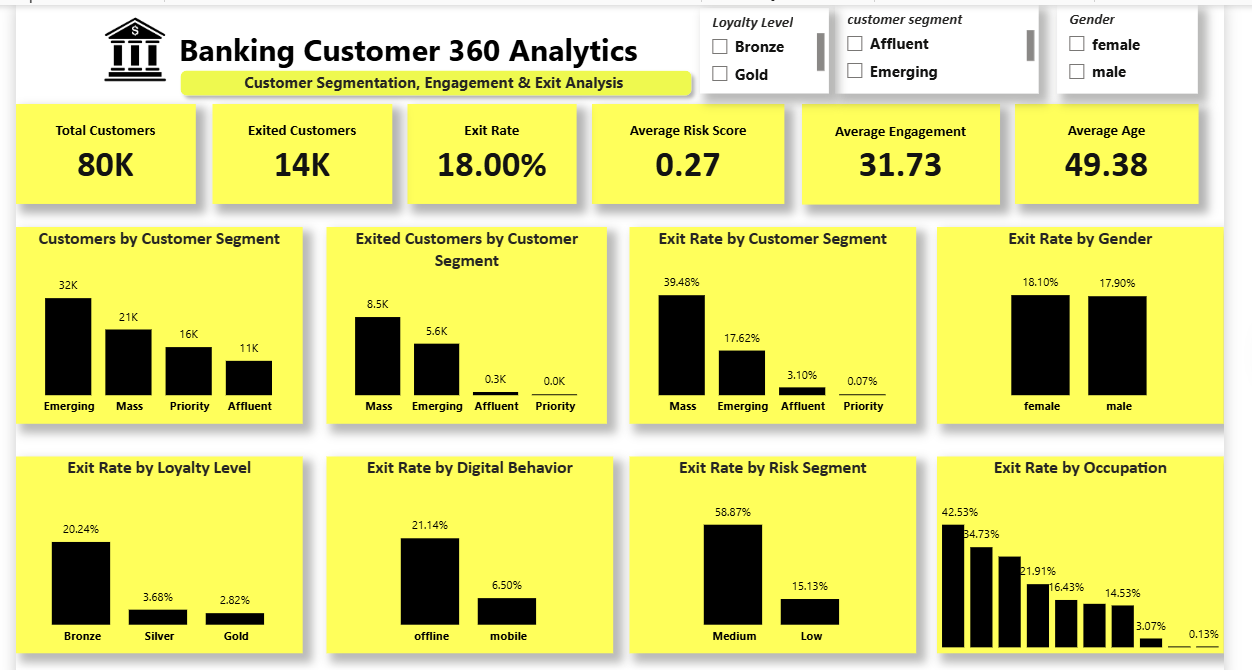

This screenshot's page, from the dashboard's own definition file:
{"tool":"powerbi","page":{"name":"Dashboard page 1","canvas":[1280,720],"ordinal":0},"visuals":[{"type":"cardVisual","fields":{"Data":["bank_churn_cleaned.Total Customers"]},"box":[0,105,190.9,105.8],"z":0},{"type":"cardVisual","fields":{"Data":["bank_churn_cleaned.Average Risk Score"]},"box":[610.8,105,204.1,105.8],"z":1000},{"type":"cardVisual","fields":{"Data":["bank_churn_cleaned.Exit Rate"]},"box":[415.1,105,179.5,105.8],"z":2000},{"type":"cardVisual","fields":{"Data":["bank_churn_cleaned.Exited Customers"]},"box":[208.4,105,190.9,105.8],"z":3000},{"type":"cardVisual","fields":{"Data":["bank_churn_cleaned.Average Engagement"]},"box":[833.5,105,210,106.6],"z":4000},{"type":"cardVisual","fields":{"Data":["bank_churn_cleaned.Average Age"]},"box":[1059.3,105,194.6,105.8],"z":5000},{"type":"clusteredColumnChart","title":"Customers by Customer Segment","fields":{"Category":["bank_churn_cleaned.customer_segment"],"Y":["CountNonNull(bank_churn_cleaned.id)"]},"box":[0,235.4,303.8,208.4],"z":6000},{"type":"clusteredColumnChart","title":"Exited Customers by Customer Segment","fields":{"Category":["bank_churn_cleaned.customer_segment"],"Y":["bank_churn_cleaned.Exited Customers"]},"box":[329.3,235.4,297.4,208.4],"z":7000},{"type":"clusteredColumnChart","title":"Exit Rate by Customer Segment","fields":{"Category":["bank_churn_cleaned.customer_segment"],"Y":["bank_churn_cleaned.Exit Rate"]},"box":[650.6,235.4,303.8,208.4],"z":8000},{"type":"clusteredColumnChart","title":"Exit Rate by Gender","fields":{"Y":["bank_churn_cleaned.Exit Rate"],"Category":["bank_churn_cleaned.gender"]},"box":[976.6,235.4,303.8,208.4],"z":9000},{"type":"clusteredColumnChart","title":"Exit Rate by Loyalty Level","fields":{"Y":["bank_churn_cleaned.Exit Rate"],"Category":["bank_churn_cleaned.loyalty_level"]},"box":[0,478.8,303.8,208.4],"z":10000},{"type":"clusteredColumnChart","title":"Exit Rate by Digital Behavior","fields":{"Y":["bank_churn_cleaned.Exit Rate"],"Category":["bank_churn_cleaned.digital_behavior"]},"box":[329.3,478.8,303.8,208.4],"z":11000},{"type":"clusteredColumnChart","title":"Exit Rate by Risk Segment","fields":{"Y":["bank_churn_cleaned.Exit Rate"],"Category":["bank_churn_cleaned.risk_segment"]},"box":[650.6,478.8,303.8,208.4],"z":12000},{"type":"clusteredColumnChart","title":"Exit Rate by Occupation","fields":{"Y":["bank_churn_cleaned.Exit Rate"],"Category":["bank_churn_cleaned.occupation"]},"box":[976.6,478.8,303.8,208.4],"z":13000},{"type":"slicer","fields":{"Values":["bank_churn_cleaned.gender"]},"box":[1103.9,0,149.5,93.8],"z":14000},{"type":"textbox","box":[49.3,19.1,733.3,57.3],"z":15000},{"type":"shape","box":[165.4,60.4,559.9,44.5],"z":16000},{"type":"textbox","box":[237,65.2,777.8,35],"z":17000},{"type":"slicer","fields":{"Values":["bank_churn_cleaned.customer_segment"]},"box":[868.5,0,216.3,93.8],"z":18000},{"type":"image","box":[0,0,252.9,93.8],"z":19000},{"type":"slicer","fields":{"Values":["bank_churn_cleaned.loyalty_level"]},"box":[725.3,3.2,136.8,90.7],"z":20000}]}

Visuals, with their boxes on the page's 1280x720 design canvas (x1, y1, x2, y2). These are canvas units, not pixel positions in the 1252x670 screenshot, which may show the page scaled, cropped or inside an application window:
cardVisual - bank_churn_cleaned.Total Customers: select_region(0, 105, 191, 211)
cardVisual - bank_churn_cleaned.Average Risk Score: select_region(611, 105, 815, 211)
cardVisual - bank_churn_cleaned.Exit Rate: select_region(415, 105, 595, 211)
cardVisual - bank_churn_cleaned.Exited Customers: select_region(208, 105, 399, 211)
cardVisual - bank_churn_cleaned.Average Engagement: select_region(834, 105, 1044, 212)
cardVisual - bank_churn_cleaned.Average Age: select_region(1059, 105, 1254, 211)
"Customers by Customer Segment" clusteredColumnChart: select_region(0, 235, 304, 444)
"Exited Customers by Customer Segment" clusteredColumnChart: select_region(329, 235, 627, 444)
"Exit Rate by Customer Segment" clusteredColumnChart: select_region(651, 235, 954, 444)
"Exit Rate by Gender" clusteredColumnChart: select_region(977, 235, 1280, 444)
"Exit Rate by Loyalty Level" clusteredColumnChart: select_region(0, 479, 304, 687)
"Exit Rate by Digital Behavior" clusteredColumnChart: select_region(329, 479, 633, 687)
"Exit Rate by Risk Segment" clusteredColumnChart: select_region(651, 479, 954, 687)
"Exit Rate by Occupation" clusteredColumnChart: select_region(977, 479, 1280, 687)
slicer - bank_churn_cleaned.gender: select_region(1104, 0, 1253, 94)
textbox: select_region(49, 19, 783, 76)
shape: select_region(165, 60, 725, 105)
textbox: select_region(237, 65, 1015, 100)
slicer - bank_churn_cleaned.customer_segment: select_region(868, 0, 1085, 94)
image: select_region(0, 0, 253, 94)
slicer - bank_churn_cleaned.loyalty_level: select_region(725, 3, 862, 94)
